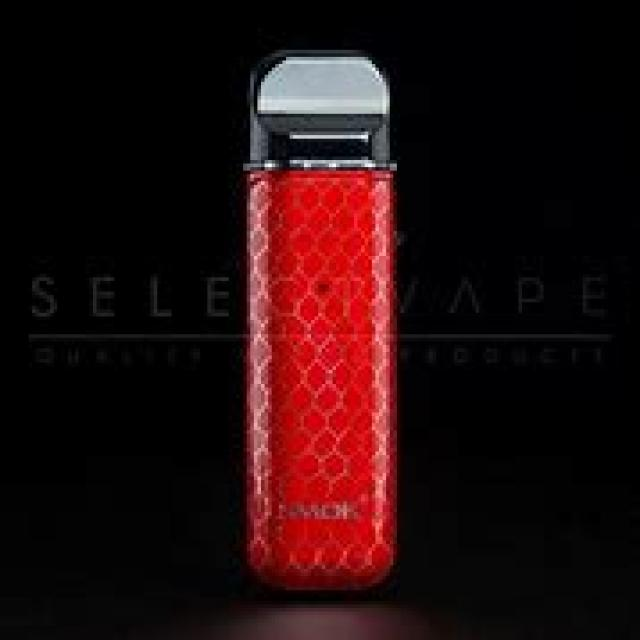Vapes: (240, 46, 400, 590)
